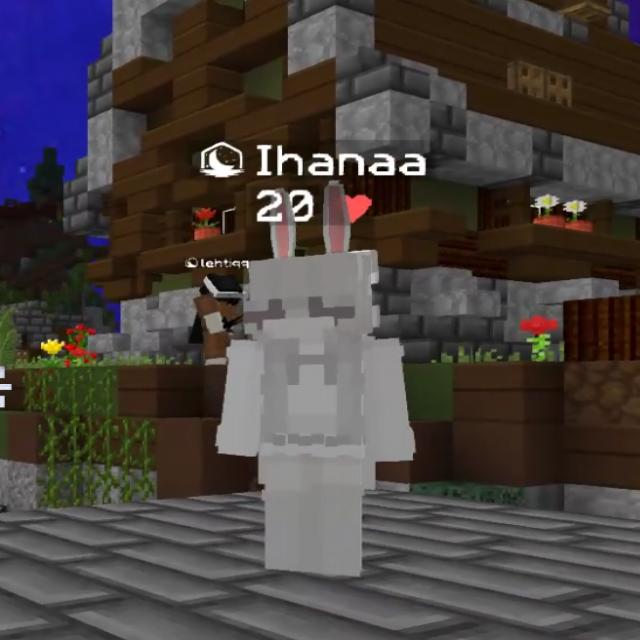Player: (212, 250, 415, 577), (191, 268, 239, 368)
